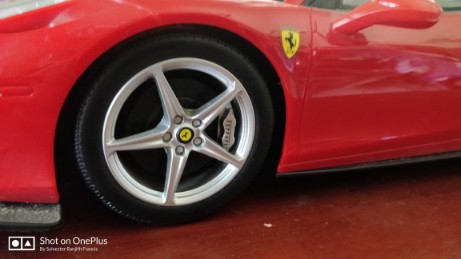unaligned_wheel: (55, 29, 281, 226)
